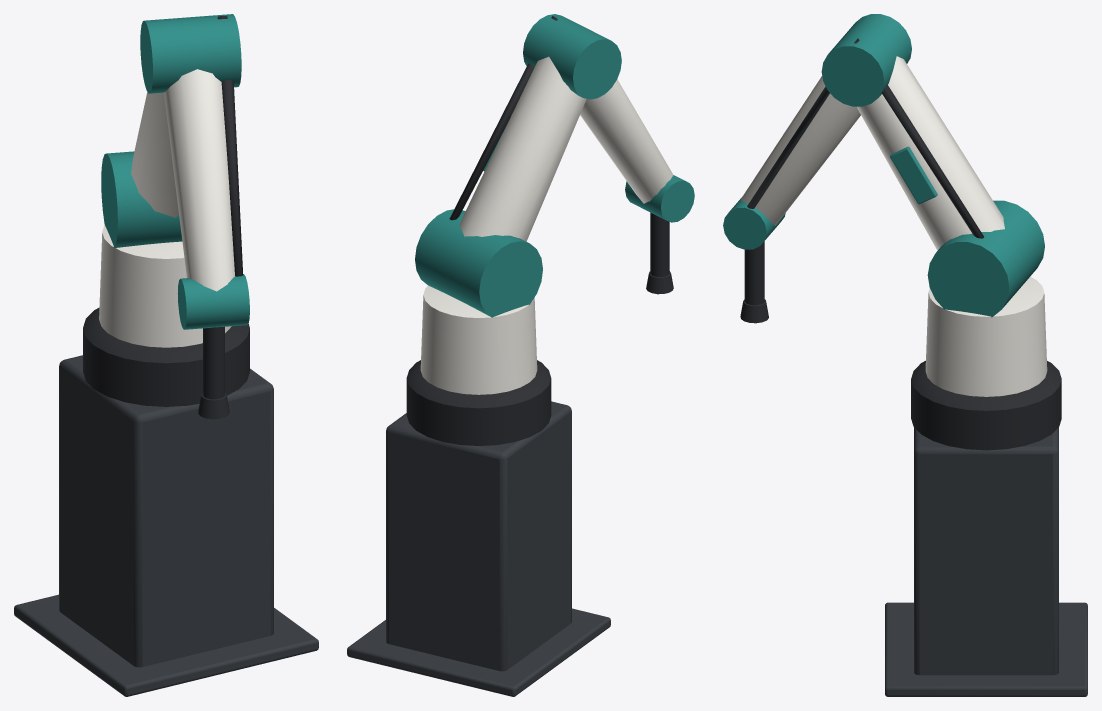
File: robot_2.fbx
3 renders of one model, left to right at view 1: azimuth 30°, elevation 25°; view 2: azimuth 150°, elevation 25°; view 3: azimuth 270°, elevation 25°, orthographic. The views are drawn at different scales.
Parts seen in each view (by area): view 1: robot_2; view 2: robot_2; view 3: robot_2.
Boxes of the visible parts, <box> form: robot_2: <box>14,14,318,696</box>; robot_2: <box>347,14,694,696</box>; robot_2: <box>723,14,1087,696</box>.
Size of the model in its own units: 0.762 by 2.32 by 1.26.
